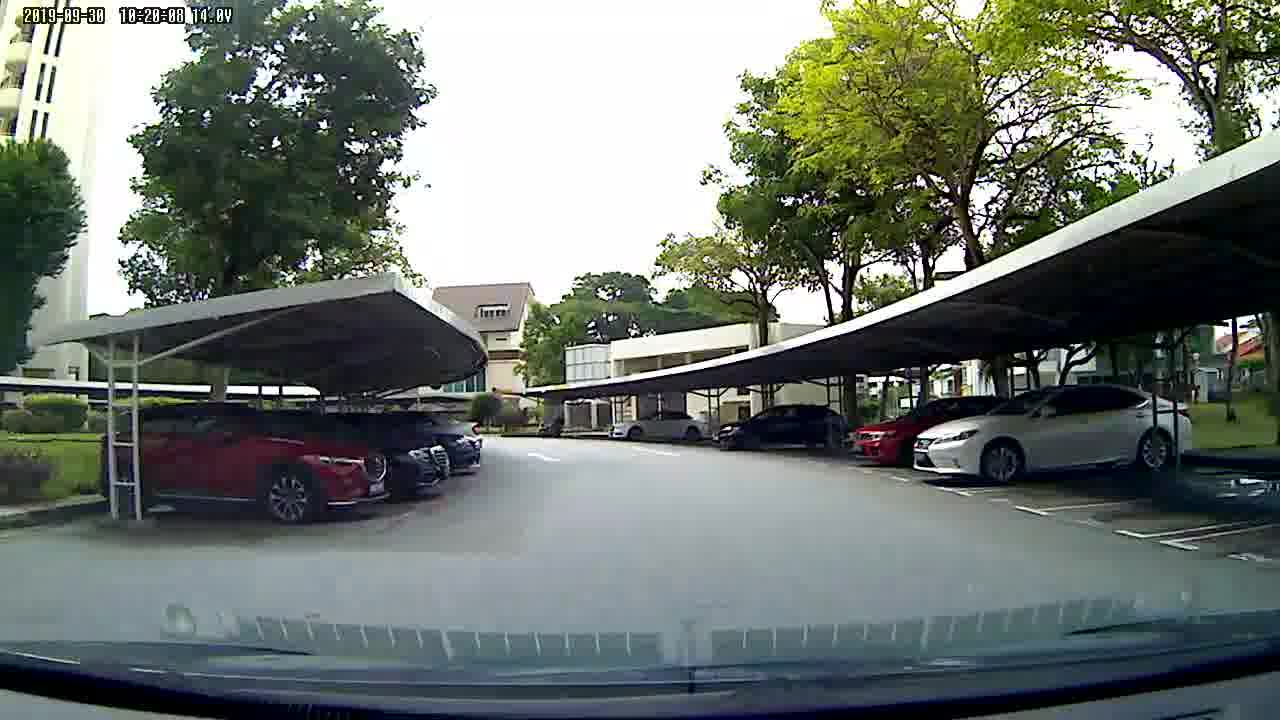car: (101, 391, 482, 526), (908, 382, 1200, 490), (714, 405, 850, 452), (608, 403, 705, 449)
